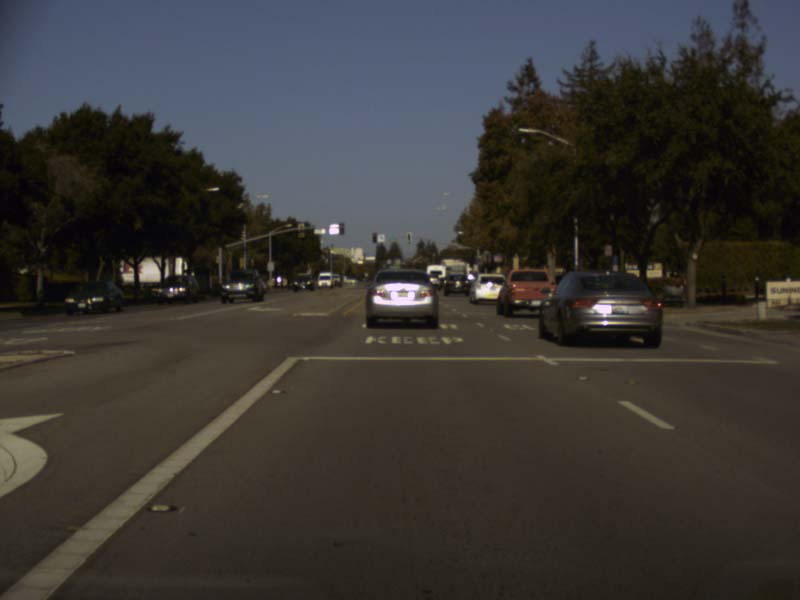Green: (407, 234, 410, 243)
Red: (372, 232, 376, 243)
